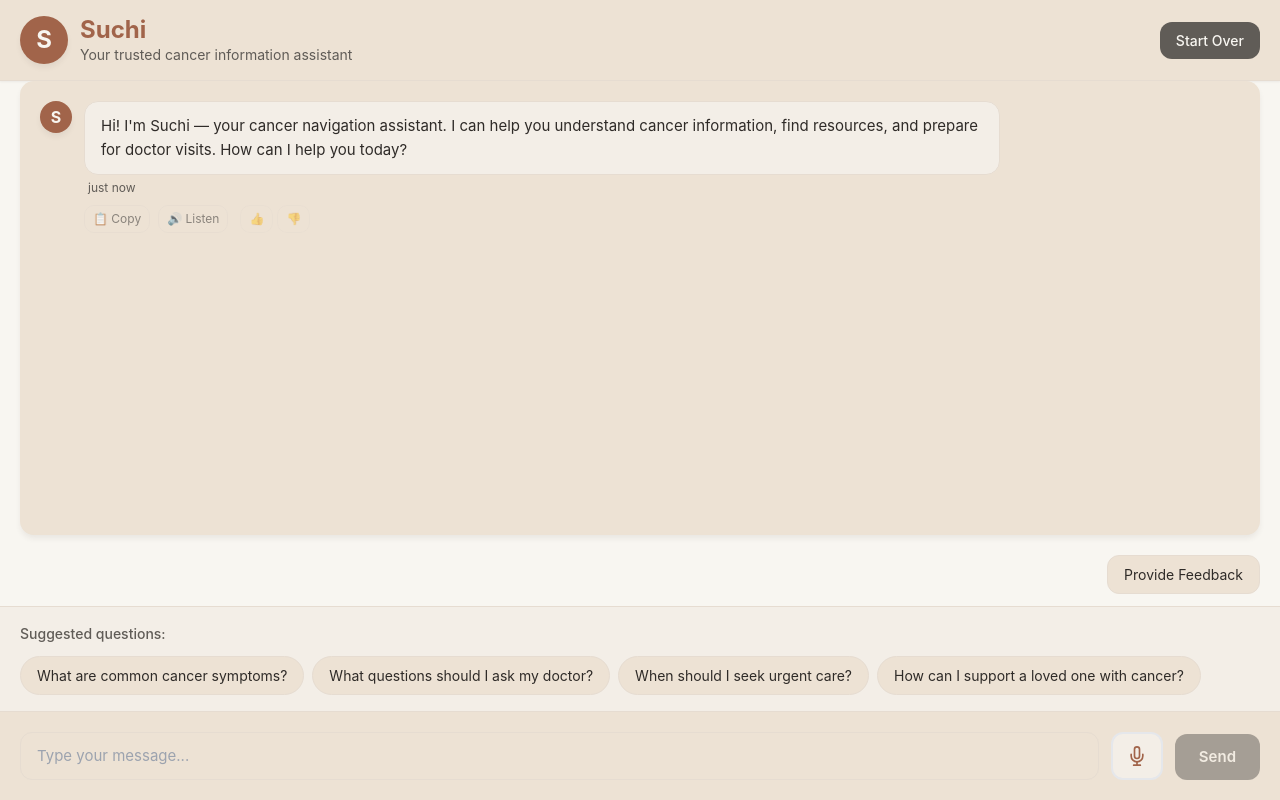
Scenario: ChatInterface — emergency banner (issue #111) › shows only the escalation block in the banner, never the appended answer
This screenshot has width=1280, height=800.
Type "I found a hard lump. Is this an emergency?" into the field with placeholder "Type your message..." at [559, 756], box [20,732,1099,780]
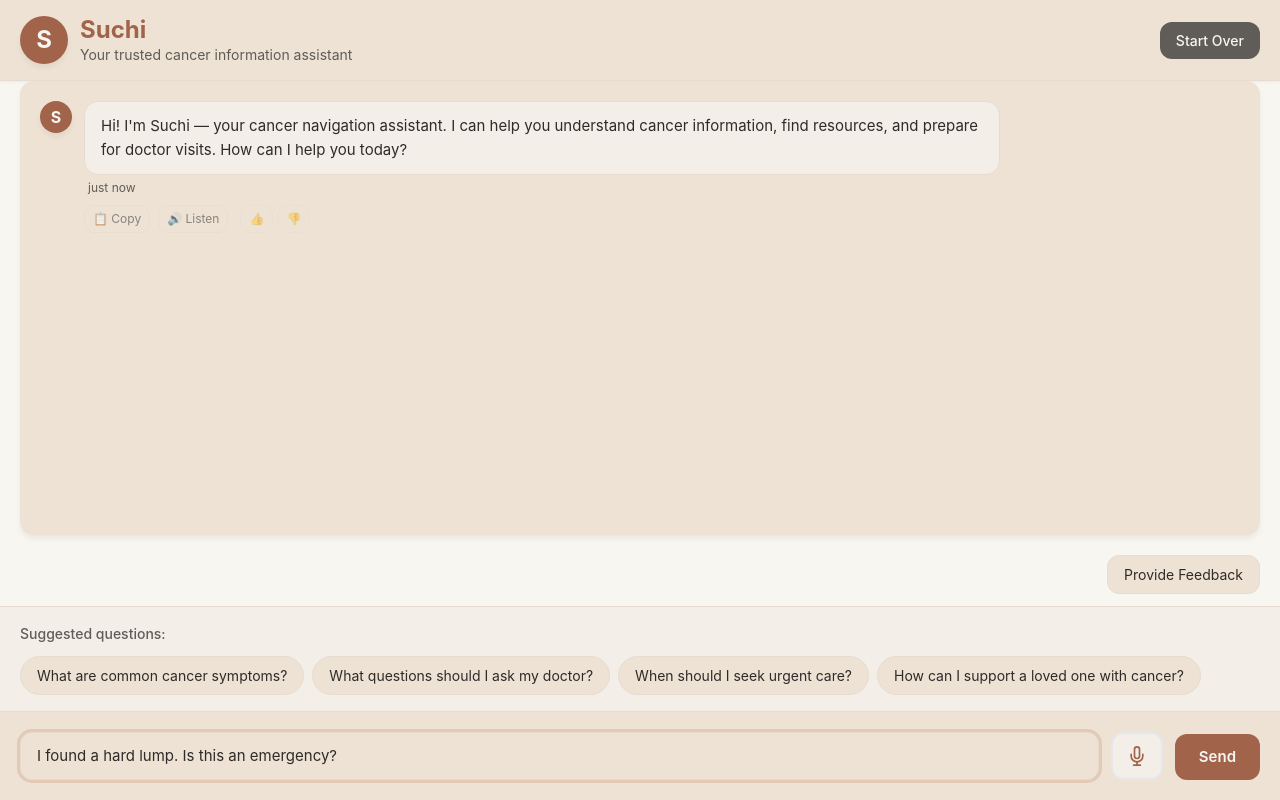
Press Enter
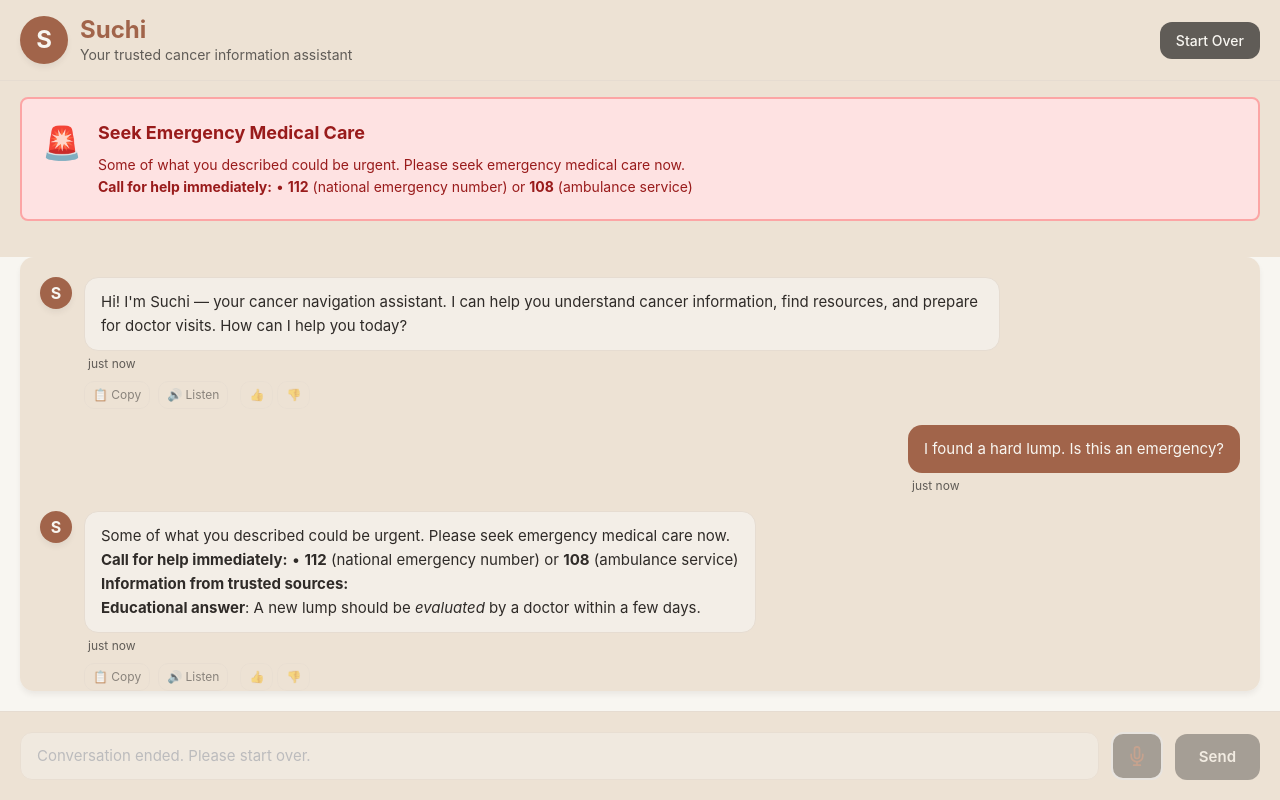
Now the text "Seek Emergency Medical Care" is shown, box [98,122,365,143]
